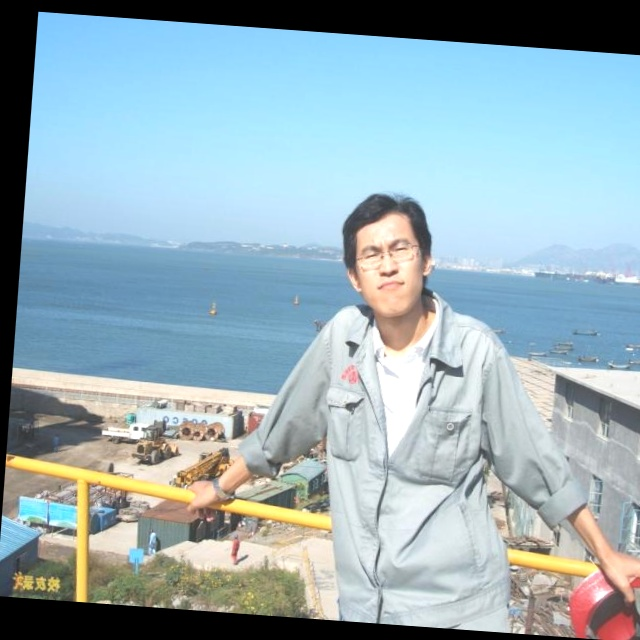Sin_Casco_Mascarrilla: (337, 190, 436, 313)
Sin_Chaleco: (309, 303, 506, 529)
